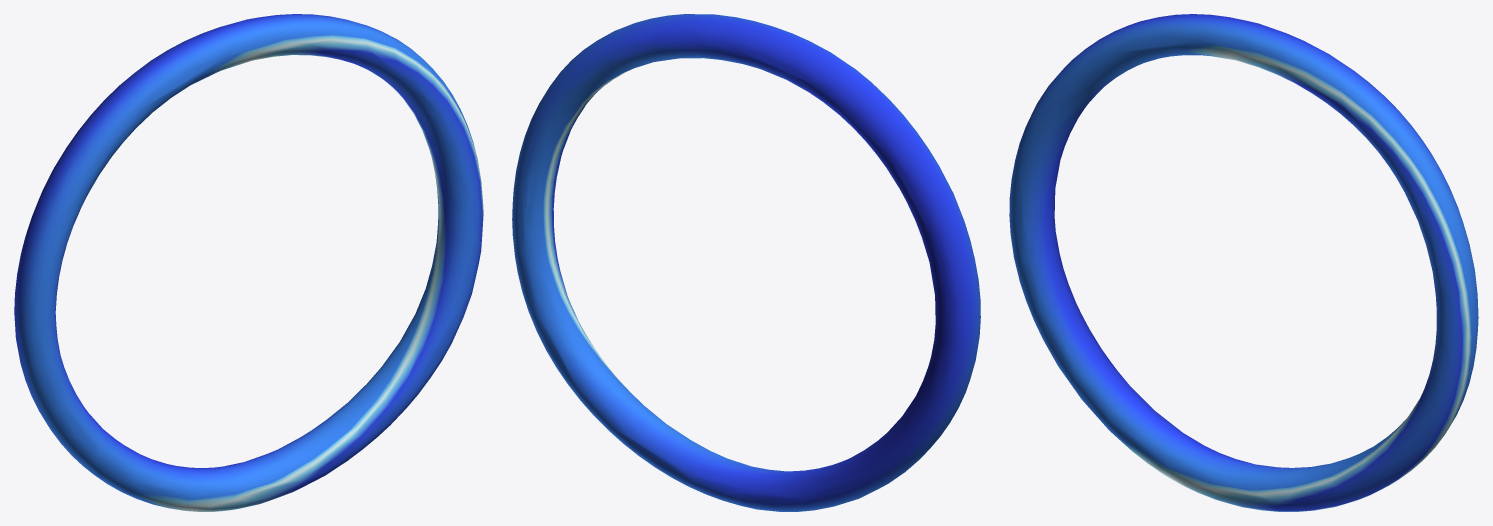
File: cd-clear.obj
3 views of the same model, side by side, from view 1: azimuth 30°, elevation 25°; view 2: azimuth 150°, elevation 25°; view 3: azimuth 330°, elevation 25° (orthographic).
Size of the model in its own units: 157 by 157 by 14.16.
Materials: 1 (1 with a texture image).
